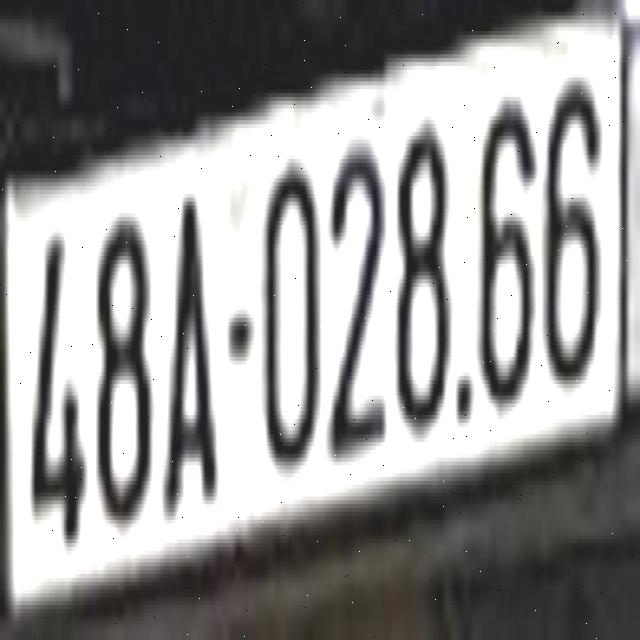0: (260, 151, 319, 481)
2: (328, 133, 386, 460)
4: (28, 219, 86, 553)
6: (545, 66, 601, 396), (480, 91, 535, 413)
8: (94, 198, 151, 535), (395, 110, 448, 437)
A: (162, 175, 220, 520)
